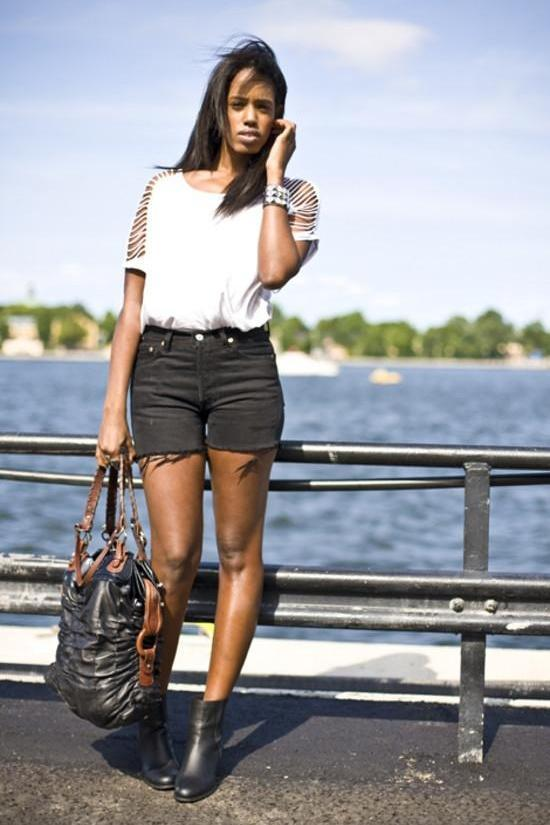Tshirt: (126, 167, 324, 333)
short: (129, 325, 284, 460)
